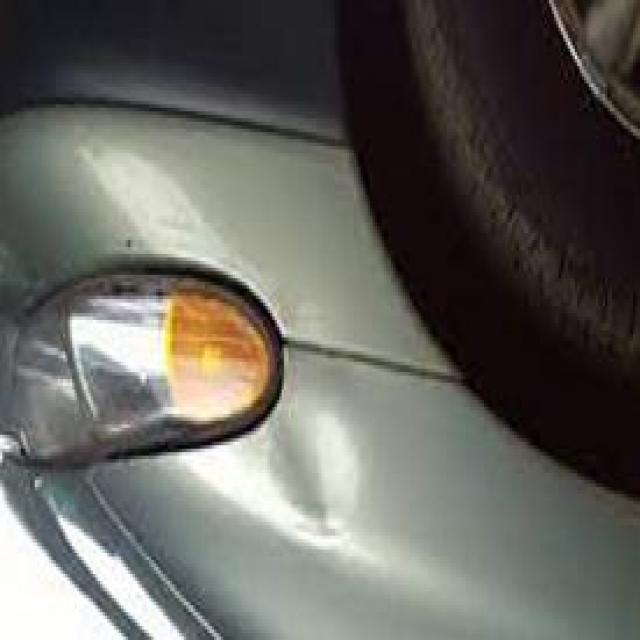dent: (256, 362, 380, 598)
